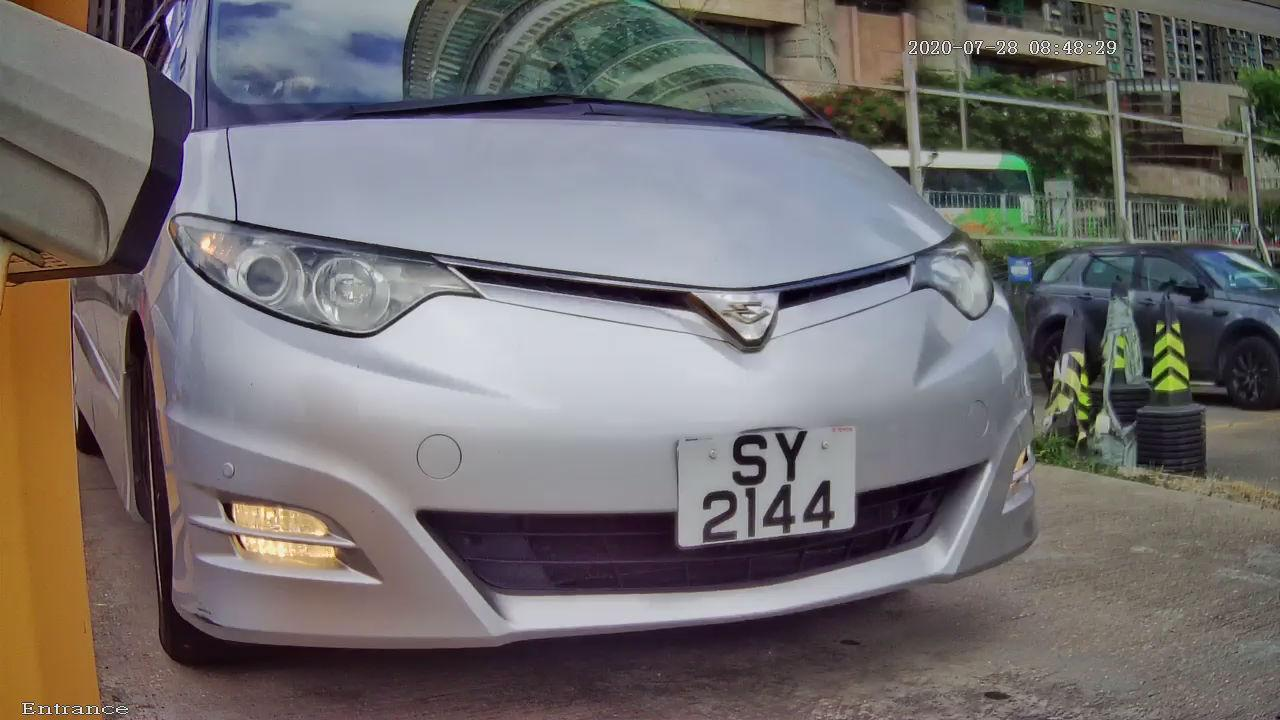privatecar: (52, 10, 1143, 711)
